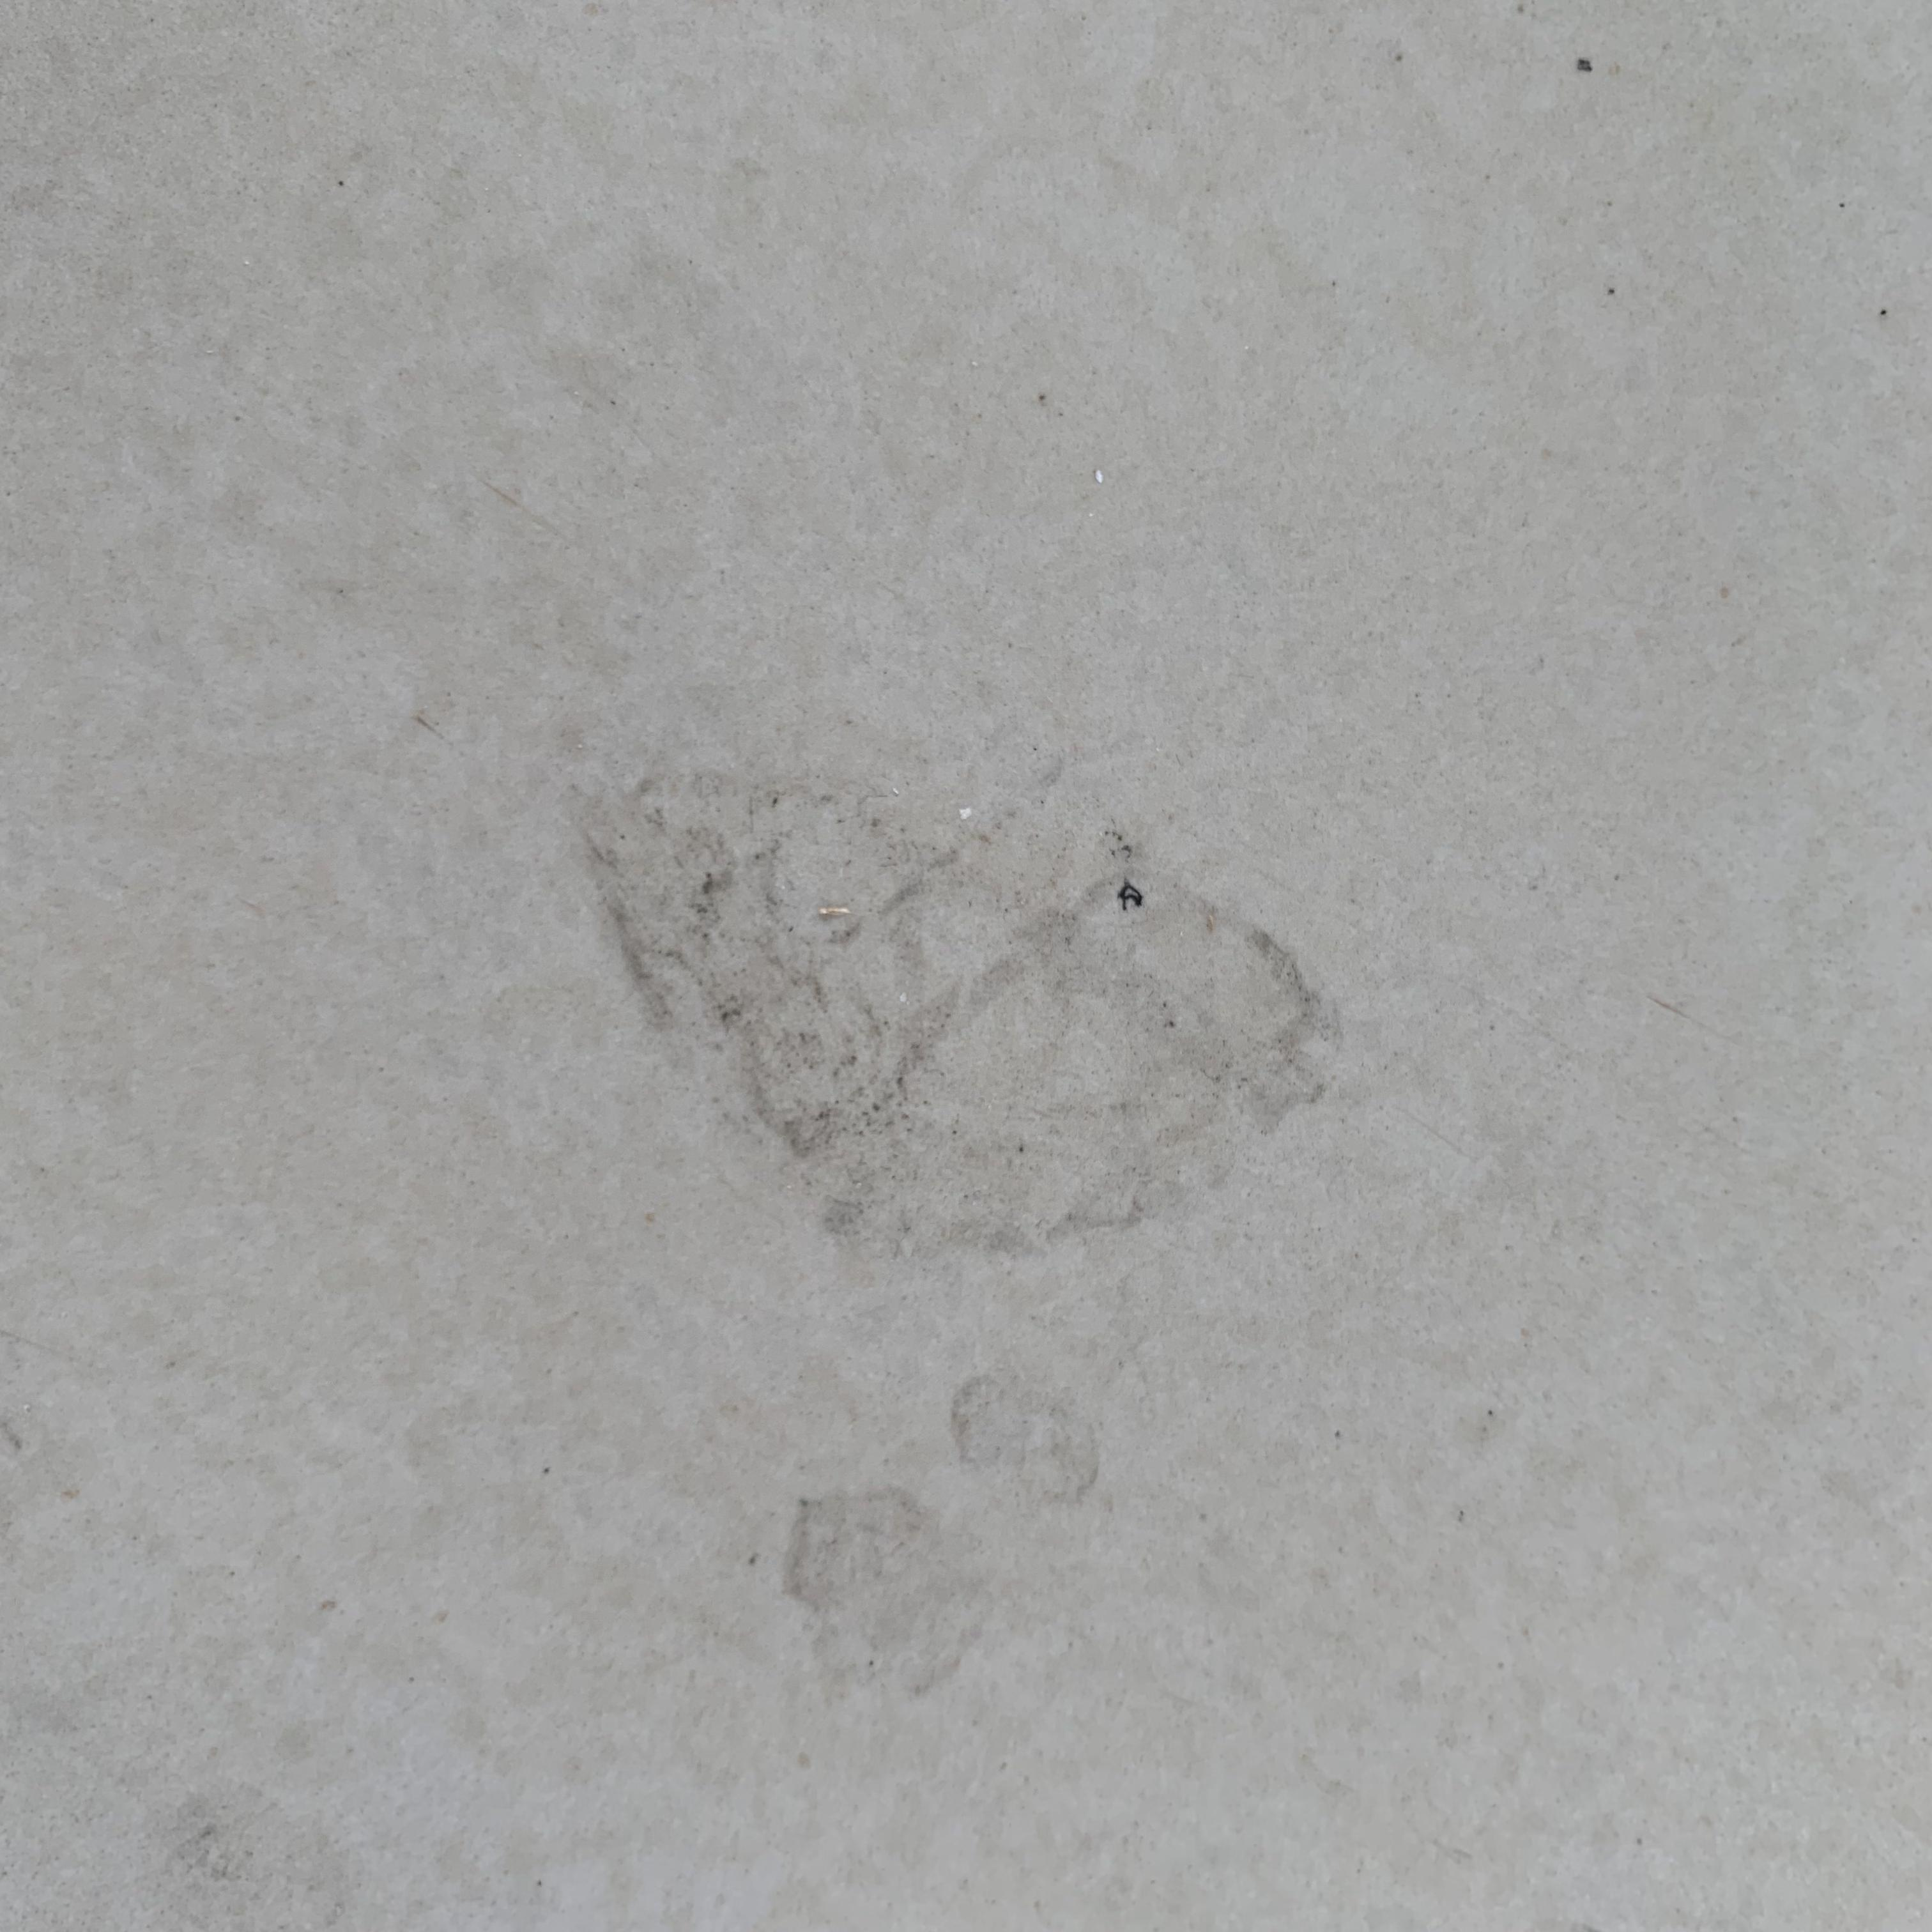grey spot: (580, 764, 1357, 1260), (778, 1490, 989, 1695), (952, 1373, 1099, 1502)
